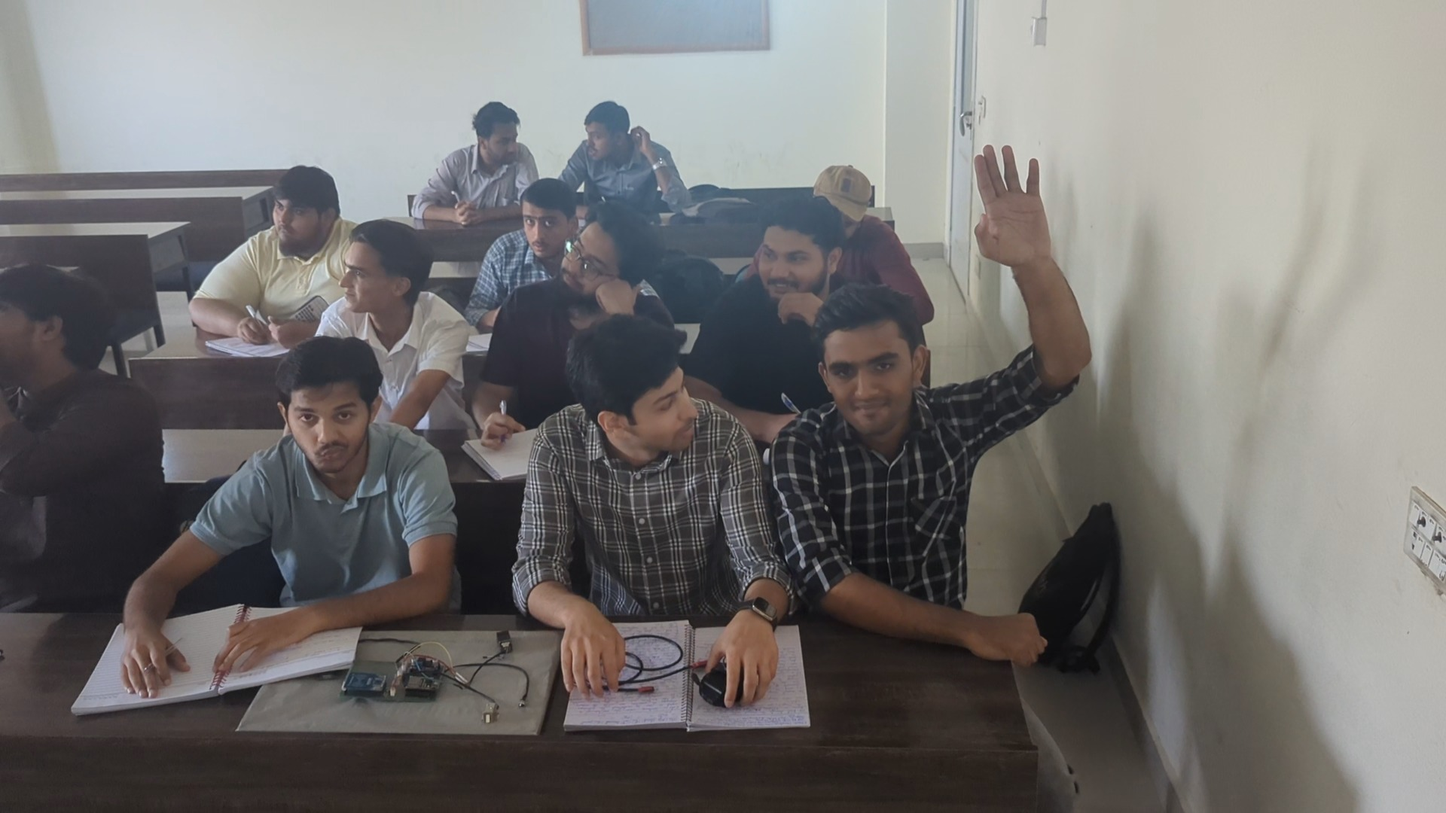handrise: (782, 150, 1090, 671)
look_forward: (230, 312, 423, 583), (0, 265, 174, 546), (222, 155, 346, 314), (321, 239, 468, 371), (737, 226, 828, 343), (568, 215, 648, 314), (507, 182, 572, 275)
turn_head: (510, 317, 757, 666), (567, 102, 677, 200), (457, 97, 524, 218)
